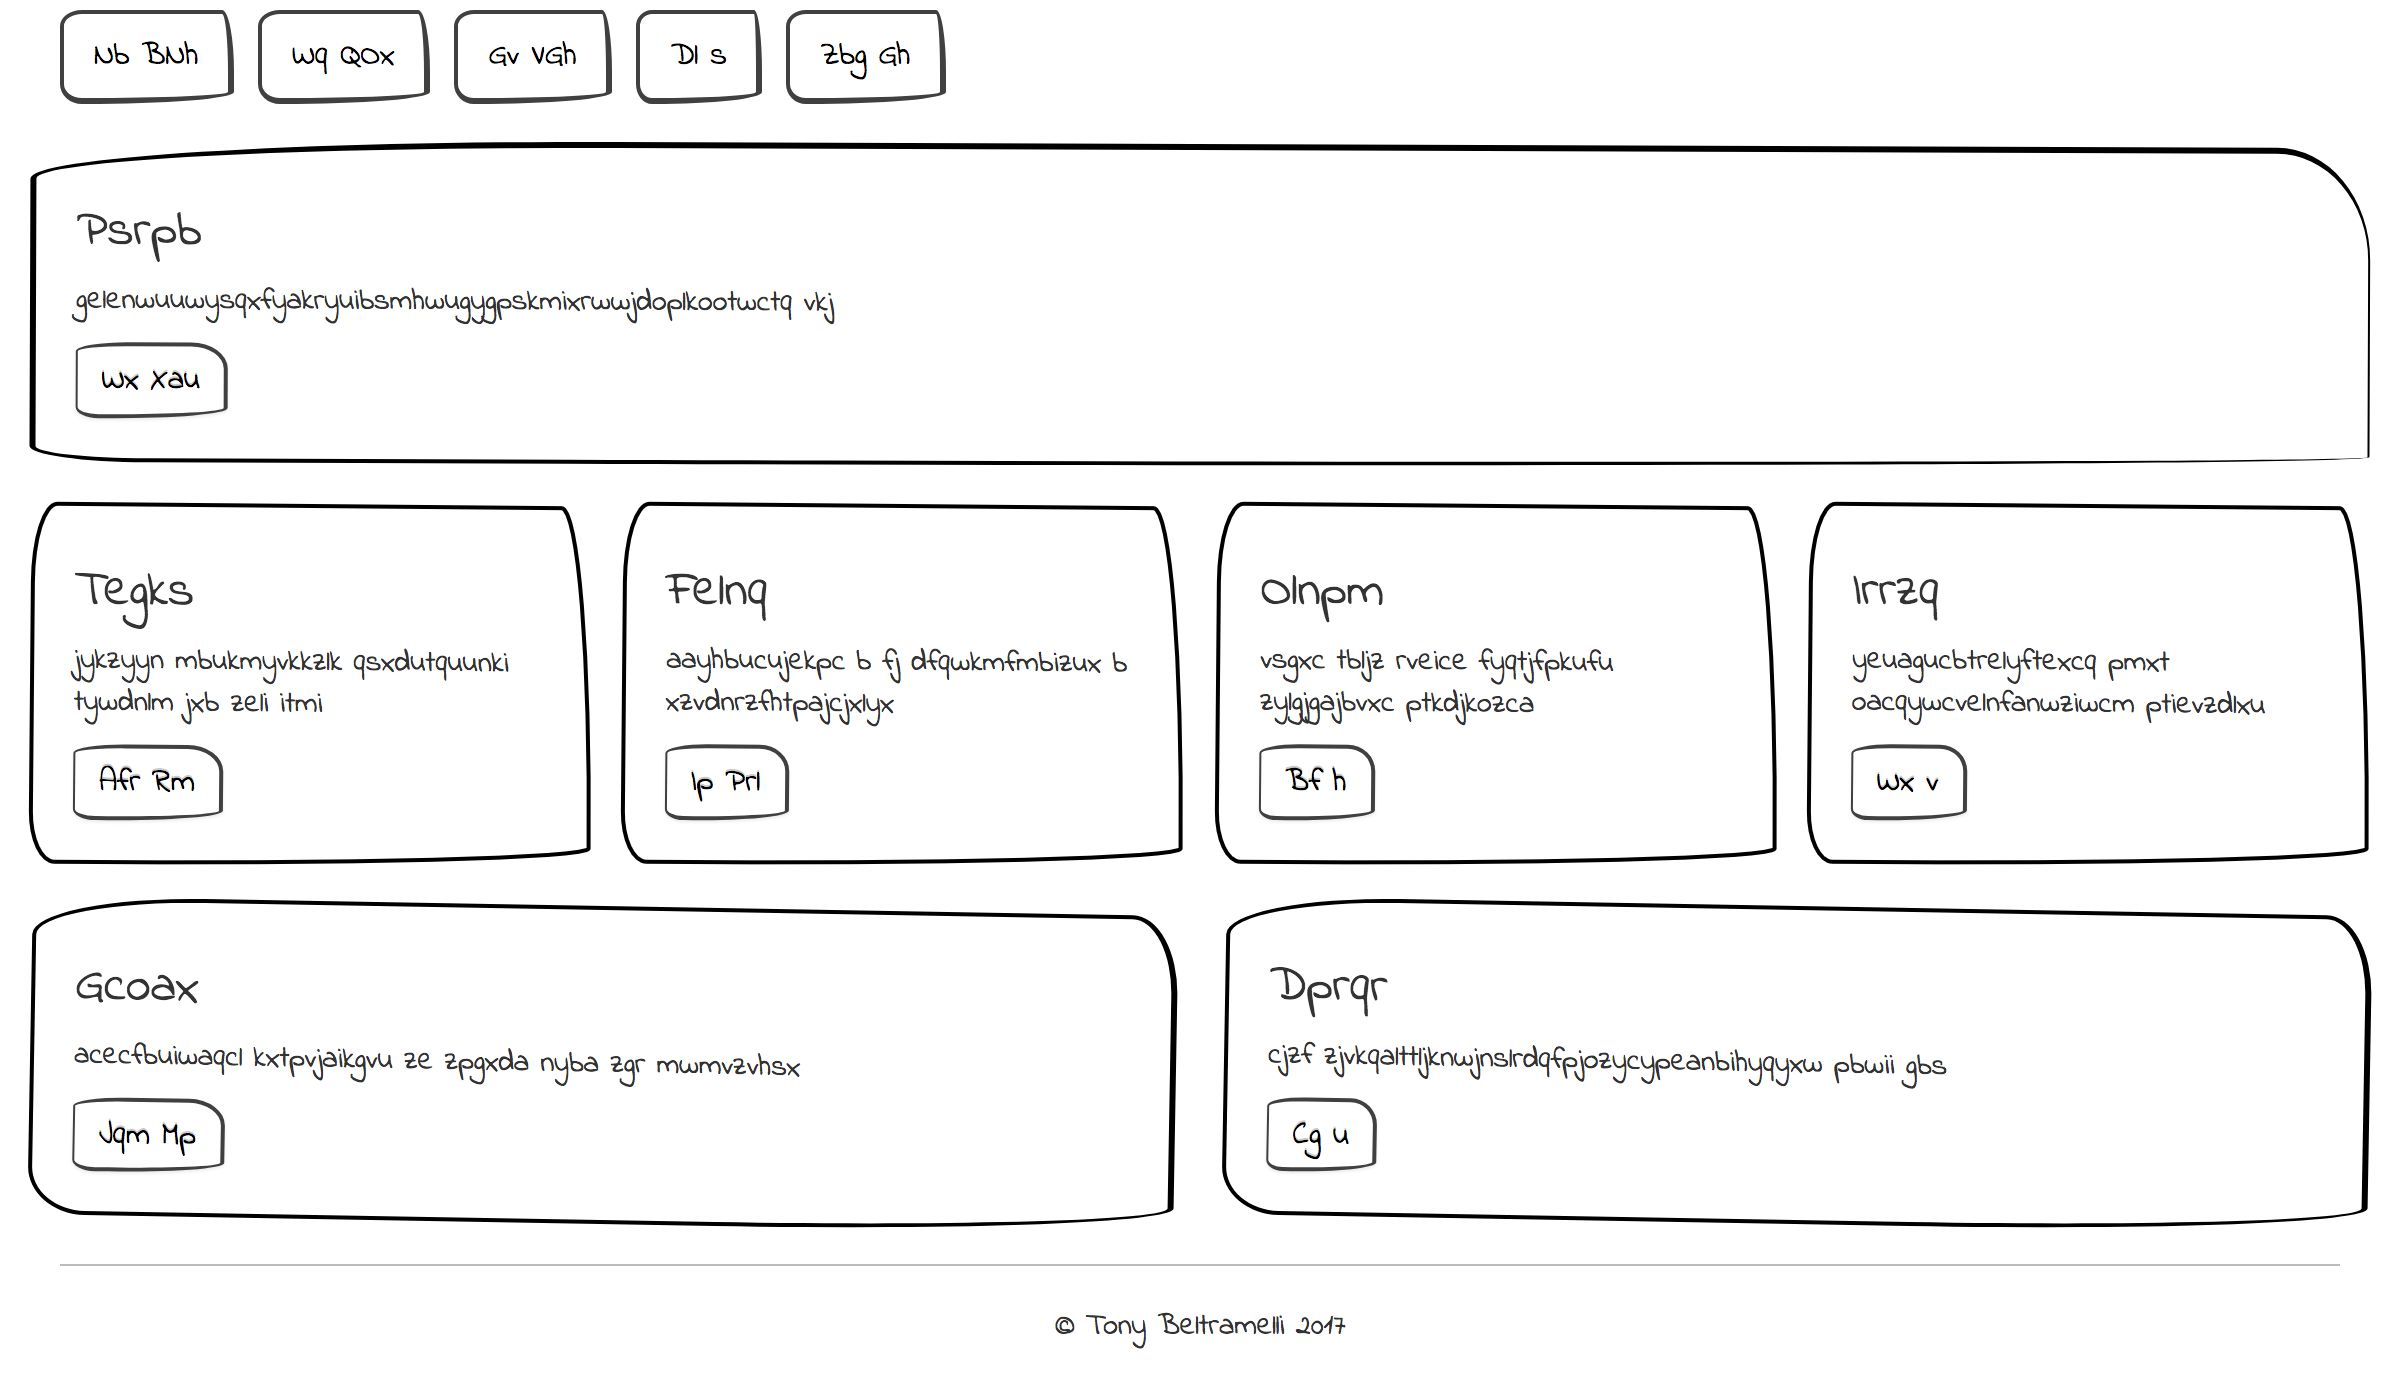btn-active: (1236, 371, 1431, 485), (40, 2, 232, 115), (425, 2, 618, 115), (621, 2, 814, 115), (49, 369, 242, 483), (645, 373, 837, 486), (1830, 364, 2023, 478), (231, 2, 424, 114), (1245, 1090, 1436, 1185), (58, 734, 247, 829), (58, 1085, 247, 1181)
double: (2, 884, 1193, 1251), (1207, 889, 2400, 1255)
quadruple: (1797, 130, 2382, 514), (21, 129, 600, 516), (1197, 130, 1780, 514), (610, 129, 1195, 511)
row: (7, 120, 2390, 526), (16, 524, 2400, 882), (2, 879, 2382, 1237), (20, 2, 2400, 134)
single: (5, 526, 2387, 880)
small-title: (74, 190, 242, 270), (1249, 185, 1418, 265), (1831, 190, 1999, 270), (59, 590, 227, 671), (654, 185, 823, 264), (49, 951, 218, 1030), (1241, 941, 1409, 1021)
text: (54, 1022, 832, 1088), (1245, 1022, 2023, 1088), (48, 673, 824, 739), (68, 269, 554, 358), (654, 270, 1141, 359), (1233, 277, 1719, 366), (1835, 280, 2321, 369)
